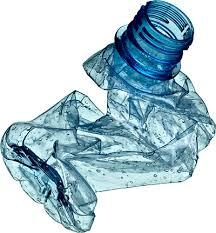plastic: (2, 12, 216, 227)
